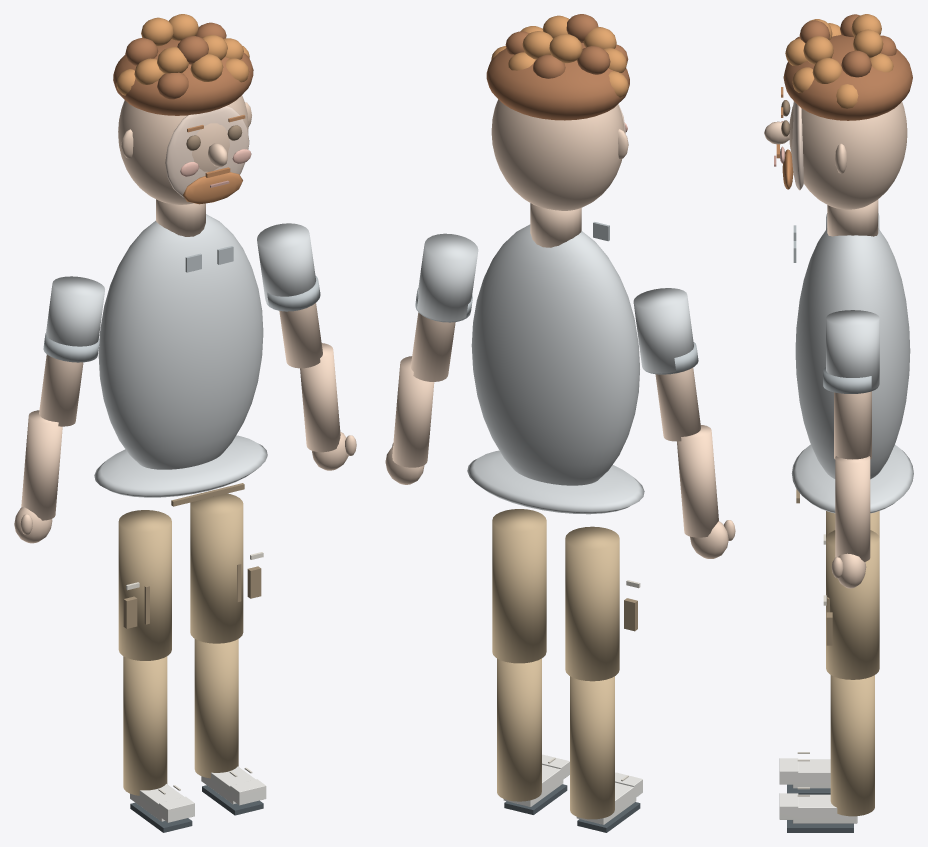
File: MathwiduPawnV2.glb
The picture shows the model from 3 angles, left to right: view 1: azimuth 30°, elevation 25°; view 2: azimuth 150°, elevation 25°; view 3: azimuth 270°, elevation 25°; orthographic projection. The views are drawn at different scales.
Parts seen in each view (by area): view 1: Torso, RightThigh, LeftThigh, LeftShin, RightShin, ShirtHem, Head, HairCap, RightShortSleeve, LeftShortSleeve, LeftForearm, RightForearm (+18 smaller); view 2: Torso, Head, RightThigh, LeftThigh, RightShin, LeftShin, HairCap, ShirtHem, RightShortSleeve, LeftShortSleeve, LeftForearm, RightForearm (+10 smaller); view 3: Torso, Head, RightShin, RightThigh, HairCap, ShirtHem, RightShortSleeve, RightForearm, RightUpperArm, NeckMesh, RightShoe, LeftShoe (+21 smaller).
Part boxes in pixels (x1,y1,x2,y2): Torso: (98,214,263,469); RightThigh: (190,493,243,643); LeftThigh: (118,510,171,660); LeftShin: (123,656,167,795); RightShin: (194,639,238,778); ShirtHem: (94,435,267,497); Head: (118,95,248,204); HairCap: (113,39,253,115); RightShortSleeve: (257,223,315,304); LeftShortSleeve: (46,276,104,346); LeftForearm: (21,410,62,520); RightForearm: (300,343,340,452); Torso: (471,224,639,485); Head: (491,99,624,210); RightThigh: (492,509,546,663); LeftThigh: (565,526,619,681); RightShin: (497,658,541,801); LeftShin: (570,676,614,819); HairCap: (486,43,629,120); ShirtHem: (467,450,644,514); RightShortSleeve: (417,233,478,321); LeftShortSleeve: (633,288,693,373); LeftForearm: (677,425,718,537); RightForearm: (392,356,434,467); Torso: (795,228,910,479); Head: (789,102,907,209); RightShin: (830,675,874,816); RightThigh: (826,530,879,679); HairCap: (783,34,912,120); ShirtHem: (791,444,913,513); RightShortSleeve: (826,310,879,389); RightForearm: (835,456,870,561); RightUpperArm: (834,391,871,459); NeckMesh: (827,199,878,236); RightShoe: (792,794,857,823); LeftShoe: (792,759,830,788).
Size of the model in its own units: 0.8426 by 1.87 by 0.324.
